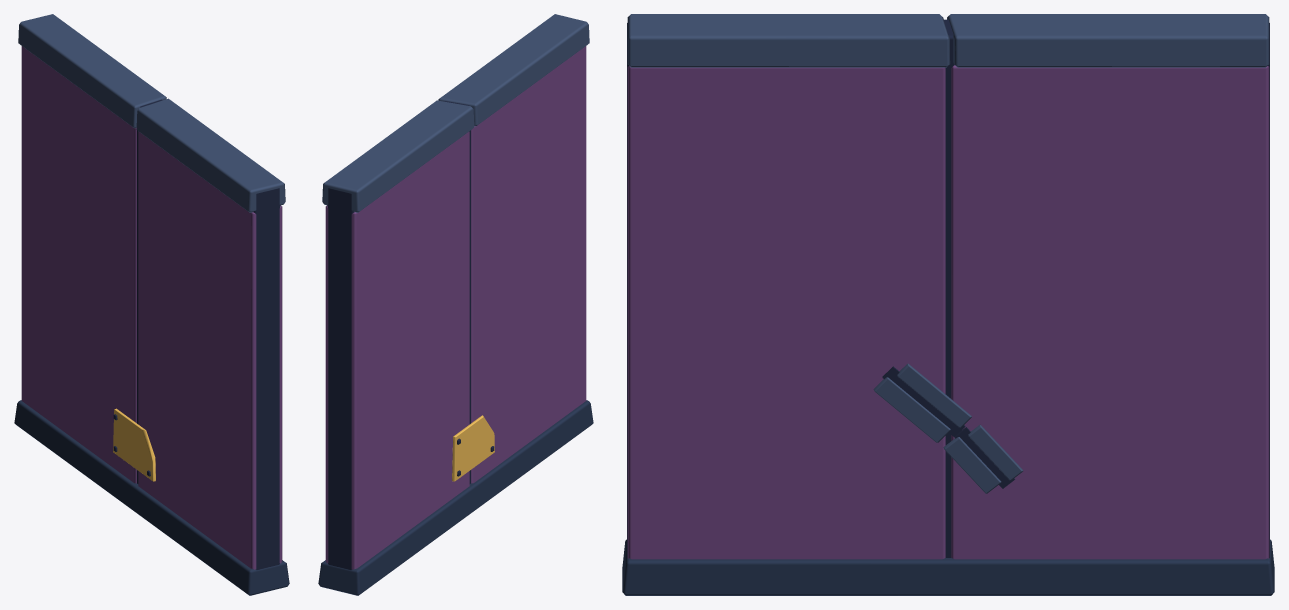
The model's file is wall_violet_34_420_440.glb.
3 views of the same model, side by side, from view 1: azimuth 30°, elevation 25°; view 2: azimuth 150°, elevation 25°; view 3: azimuth 270°, elevation 25° (orthographic). The views are drawn at different scales.
Parts seen in each view (by area): view 1: wall_violet_34_420_440; view 2: wall_violet_34_420_440; view 3: wall_violet_34_420_440.
Part boxes in pixels (x1,y1,x2,y2): wall_violet_34_420_440: [14, 14, 289, 595]; wall_violet_34_420_440: [318, 14, 593, 595]; wall_violet_34_420_440: [622, 14, 1274, 595].
Bounding box in the file's own units: 0.4582 × 4.2 × 4.44.
